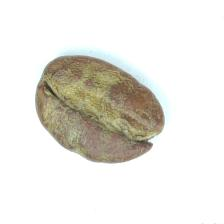NG: (42, 56, 148, 151)
